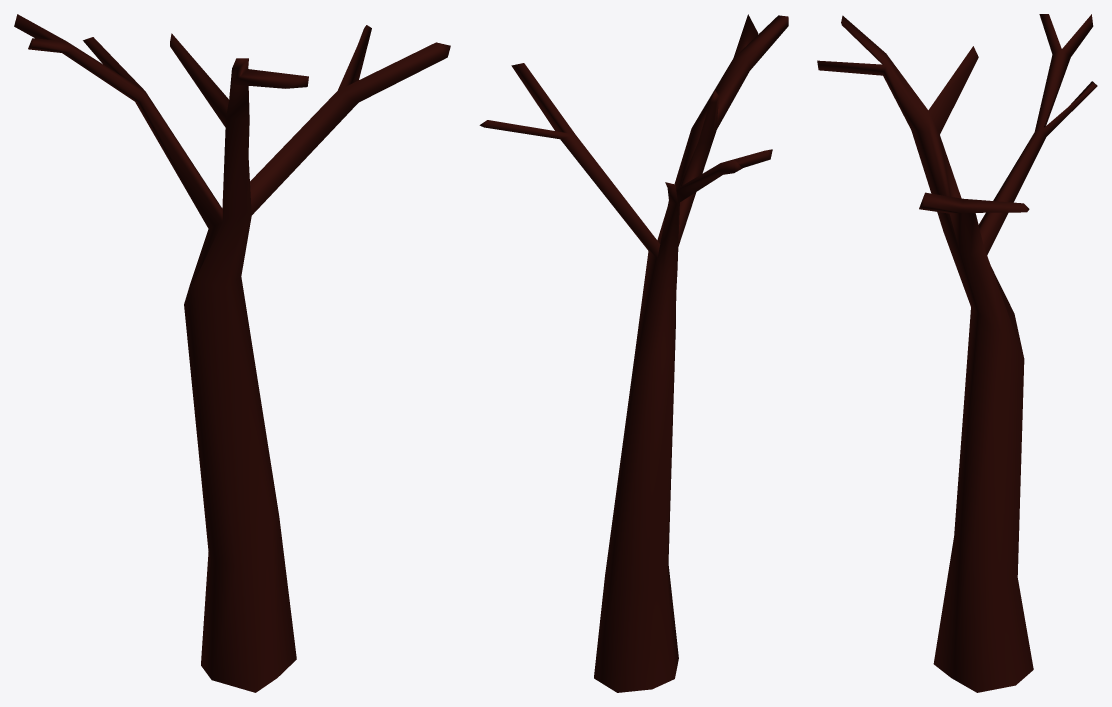
File: low-poly-dead-tree.fbx
3 views of the same model, side by side, from view 1: azimuth 30°, elevation 25°; view 2: azimuth 150°, elevation 25°; view 3: azimuth 270°, elevation 25° (orthographic). The views are drawn at different scales.
Visible parts, largest first — view 1: Circle_Circle; view 2: Circle_Circle; view 3: Circle_Circle.
Part boxes in pixels (box(x1,y1,x2,y2)): Circle_Circle: box(14, 14, 450, 692); Circle_Circle: box(479, 14, 788, 692); Circle_Circle: box(817, 14, 1097, 692).
Size of the model in its own units: 7.64 by 14.18 by 5.83.
